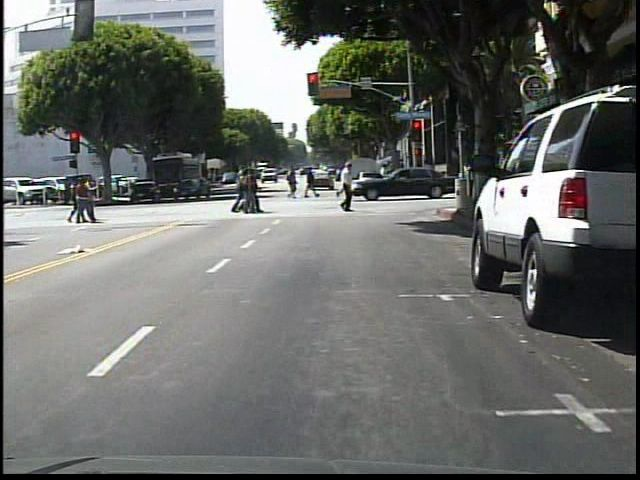person: (334, 159, 360, 218)
